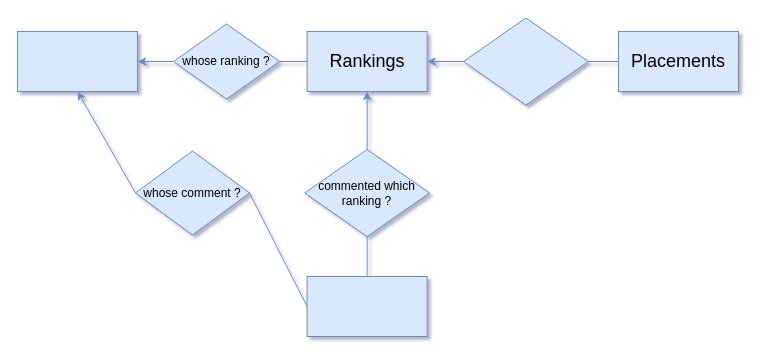
The diagram is 762 pixels wide and 360 high, and some of its shapes have lost their labels. The centre of each missing label's shape, as x and y in pixels:
"Comments" belongs at pixel 366 306.
"placement of what ranking ?" belongs at pixel 525 61.
"Users" belongs at pixel 77 61.
